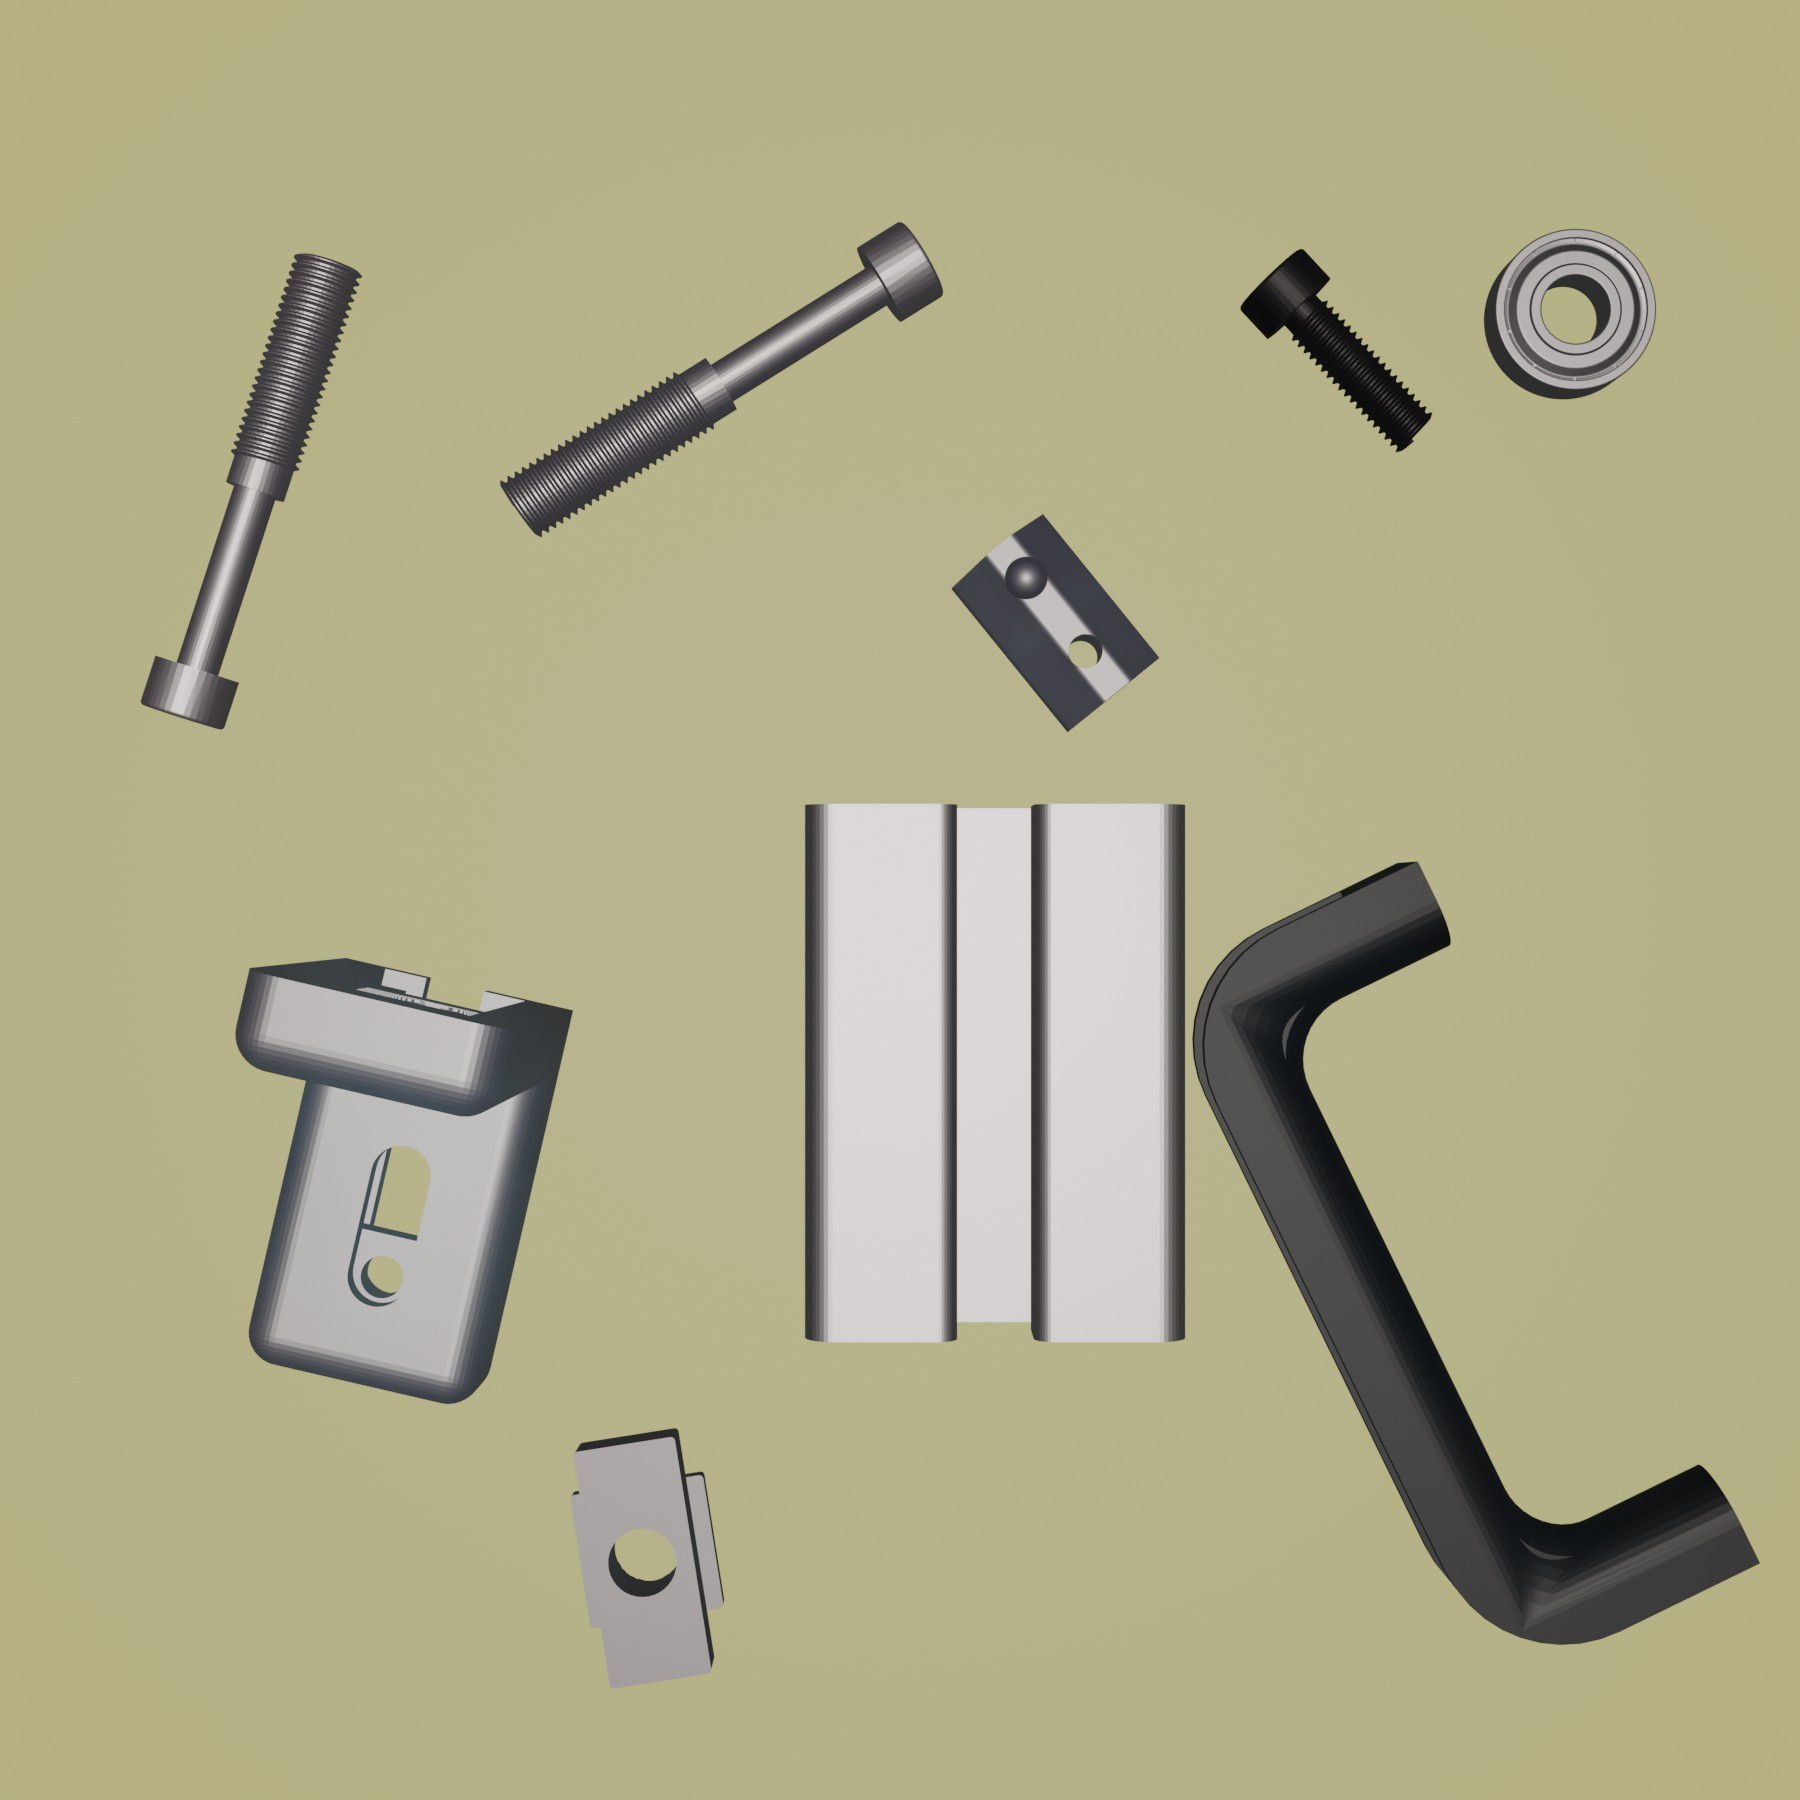Aluminium Extension: (799, 798, 1193, 1347)
Ball Bearing: (1482, 227, 1658, 401)
Multiwinkel: (232, 954, 575, 1408)
Pull Handle: (1190, 859, 1762, 1648)
Shoulder Socket Head Cap Screw: (495, 219, 946, 542), (138, 251, 363, 730)
Socket Head Cap Screw: (1240, 247, 1432, 453)
T Nut Square: (565, 1423, 729, 1691)
T Spring Nut: (948, 511, 1159, 734)
